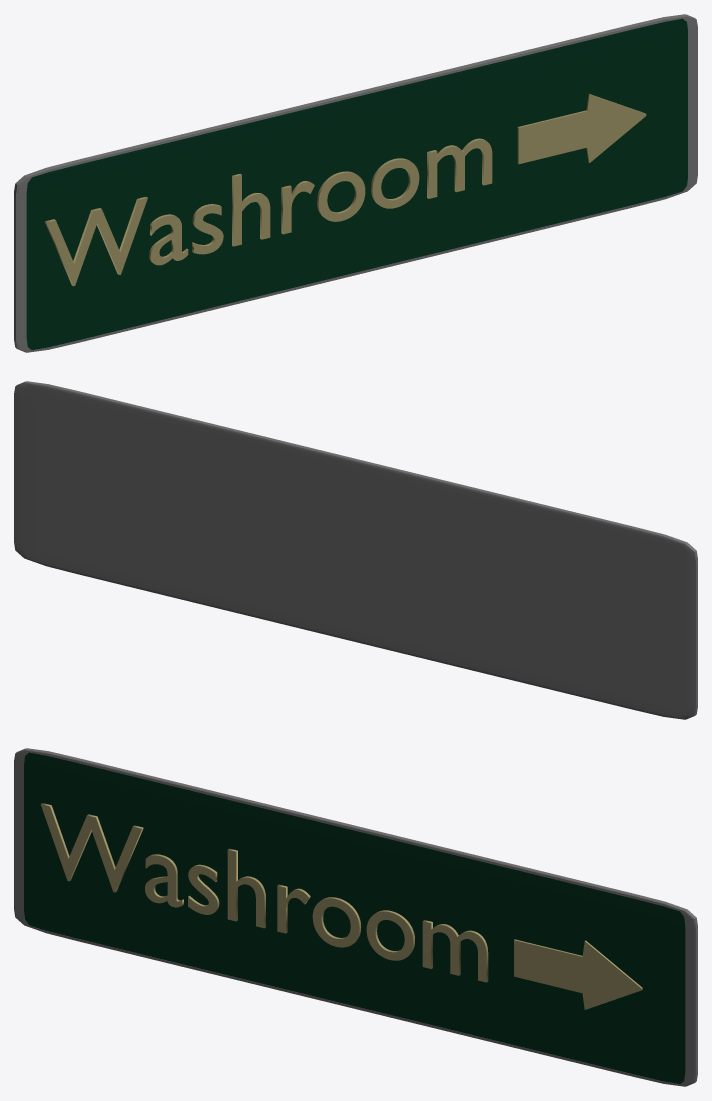
The model's file is washroom to the right.fbx.
3 views of the same model, one above another, from view 1: azimuth 30°, elevation 25°; view 2: azimuth 150°, elevation 25°; view 3: azimuth 330°, elevation 25° (orthographic).
Parts seen in each view (by area): view 1: Cube.001, Text.003, Cube.002; view 2: Cube.001; view 3: Cube.001, Text.003, Cube.002.
Boxes of the visible parts, box(x1,y1,x2,y2) form: Cube.001: box(14, 14, 697, 352); Text.003: box(45, 138, 492, 286); Cube.002: box(517, 93, 646, 164); Cube.001: box(14, 381, 697, 719); Cube.001: box(14, 748, 697, 1086); Text.003: box(40, 803, 488, 982); Cube.002: box(514, 939, 642, 1009).
Size of the model in its own units: 1504 by 382 by 16.14.
